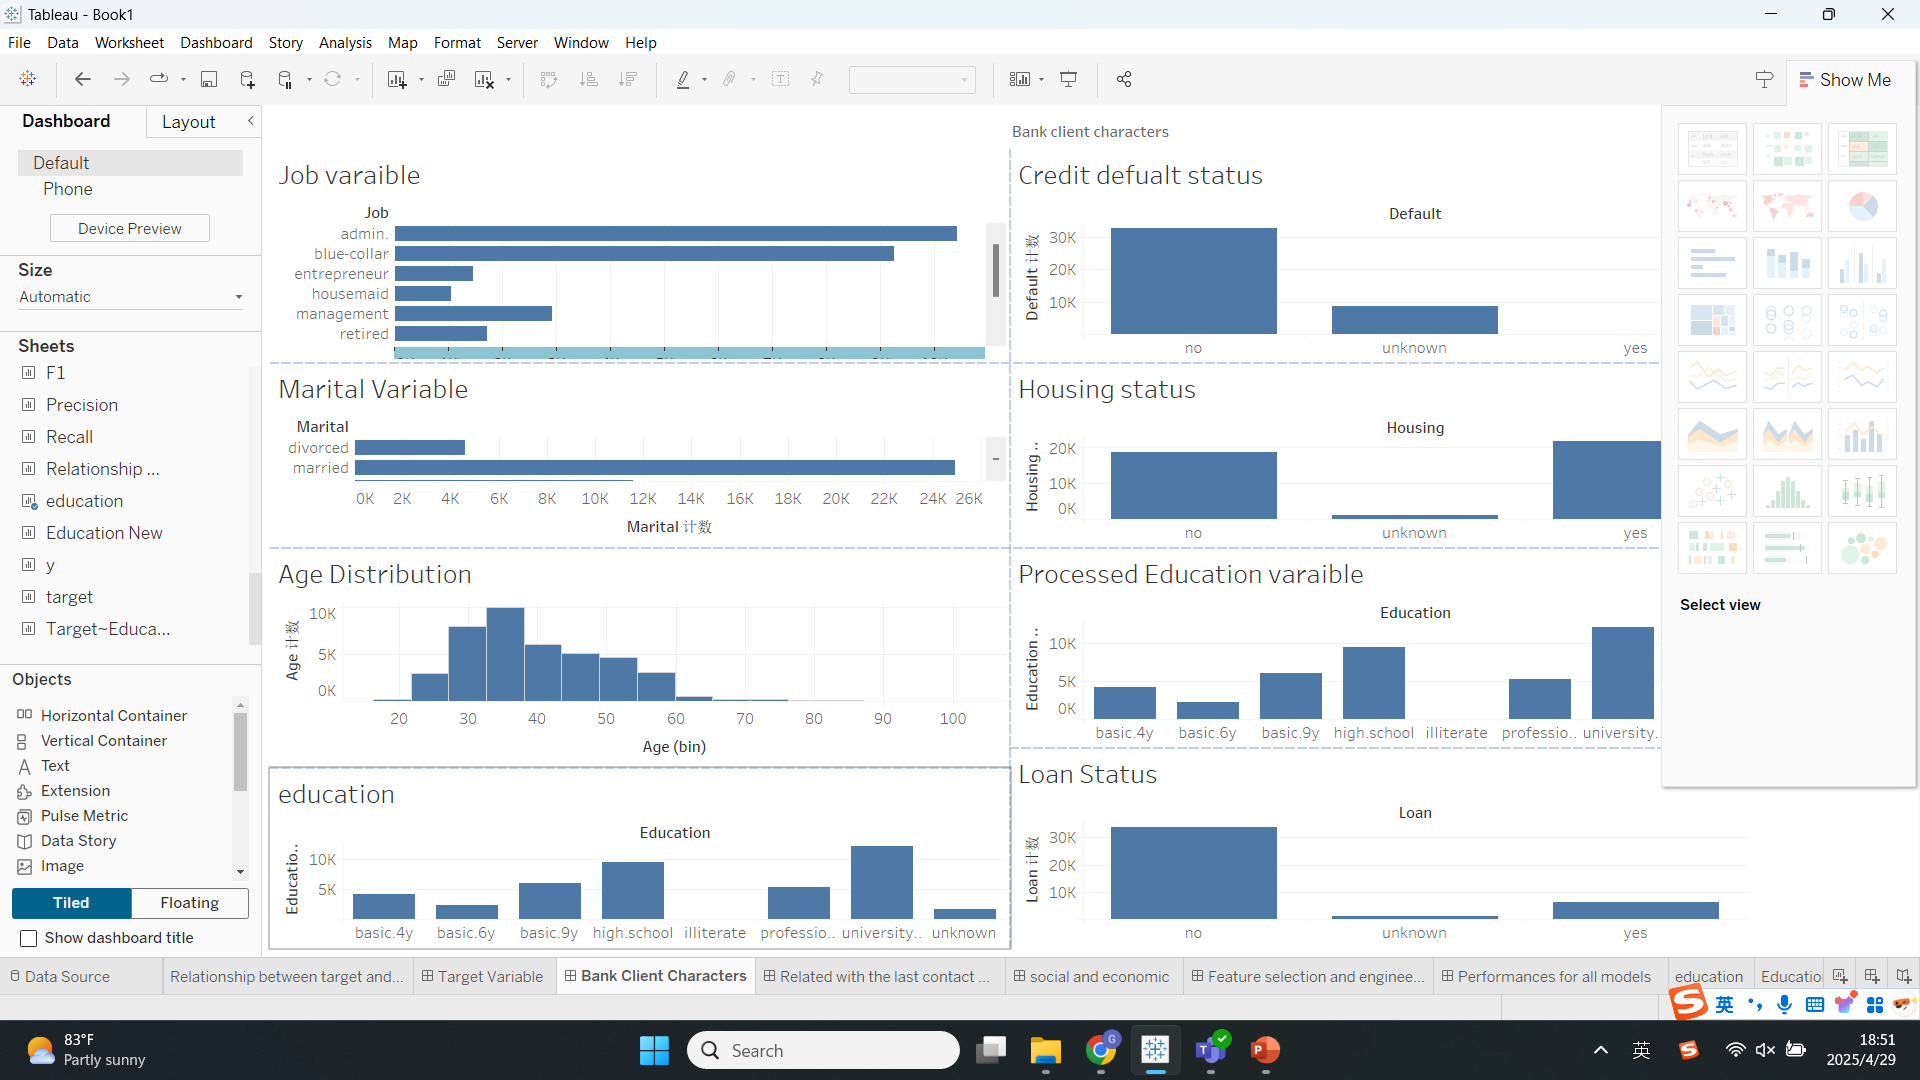

The dashboard page shown, as its layout file describes it:
{"tool":"tableau","page":{"name":"Bank Client Characters","canvas":[1000,1000],"units":"permille","ordinal":0},"visuals":[{"type":"text","box":[4.8,9.4,990.3,42.3]},{"type":"worksheet","title":"Job varaible","mark":"Automatic","rows":["job"],"cols":["job"],"box":[4.8,51.7,446.9,251.5]},{"type":"worksheet","title":"Credit defualt status","mark":"Automatic","rows":["default"],"cols":["default"],"box":[451.7,51.7,446.9,251.9]},{"type":"filter","title":"Age Distribution","param":"[federated.1im1hbv1r95ybv11rkrbd02ivxn2].[none:Age (bin):qk]","box":[898.6,51.7,96.6,85.8]},{"type":"filter","title":"Marital Variable","param":"[federated.1im1hbv1r95ybv11rkrbd02ivxn2].[none:marital:nk]","box":[898.6,137.5,96.6,177.4]},{"type":"worksheet","title":"Marital Variable","mark":"Automatic","rows":["marital"],"cols":["marital"],"box":[4.8,303.2,446.9,217.4]},{"type":"worksheet","title":"Housing status","mark":"Automatic","rows":["housing"],"cols":["housing"],"box":[451.7,303.6,446.9,217.6]},{"type":"worksheet","title":"Age Distribution","mark":"Automatic","rows":["age"],"cols":["Age (bin)"],"box":[4.8,520.6,446.9,258.5]},{"type":"worksheet","title":"Processed Education varaible","mark":"Automatic","rows":["education"],"cols":["education"],"box":[451.7,521.1,446.9,234.7]},{"type":"worksheet","title":"Loan Status","mark":"Automatic","rows":["loan"],"cols":["loan"],"box":[451.7,755.9,446.9,234.7]},{"type":"worksheet","title":"education","mark":"Automatic","rows":["education"],"cols":["education"],"box":[4.8,779.1,446.9,211.5]}]}

Visuals, with their boxes on the dashboard's canvas, which has no fixed pixel size, in thousandths of its width and height (x1, y1, x2, y2). These are canvas units, not pixel positions in the 1920x1080 screenshot, which may show the page scaled, cropped or inside an application window:
text: left=5, top=9, right=995, bottom=52
"Job varaible" worksheet: left=5, top=52, right=452, bottom=303
"Credit defualt status" worksheet: left=452, top=52, right=899, bottom=304
"Age Distribution" filter: left=899, top=52, right=995, bottom=138
"Marital Variable" filter: left=899, top=138, right=995, bottom=315
"Marital Variable" worksheet: left=5, top=303, right=452, bottom=521
"Housing status" worksheet: left=452, top=304, right=899, bottom=521
"Age Distribution" worksheet: left=5, top=521, right=452, bottom=779
"Processed Education varaible" worksheet: left=452, top=521, right=899, bottom=756
"Loan Status" worksheet: left=452, top=756, right=899, bottom=991
"education" worksheet: left=5, top=779, right=452, bottom=991
